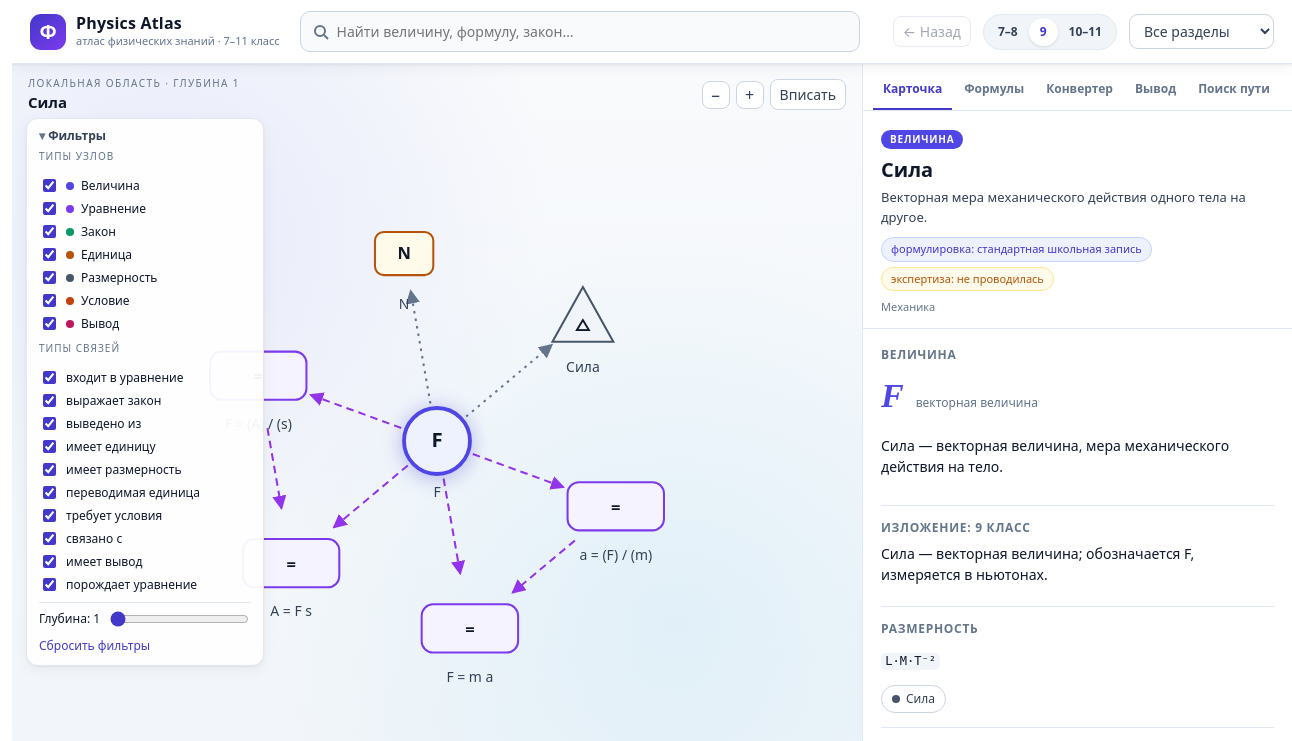
atlas application › returns to the previous object with the back button
The image size is (1292, 741).
Type "масса" into the dropdown named "Поиск по атласу" at (580, 32), box [300,11,860,52]
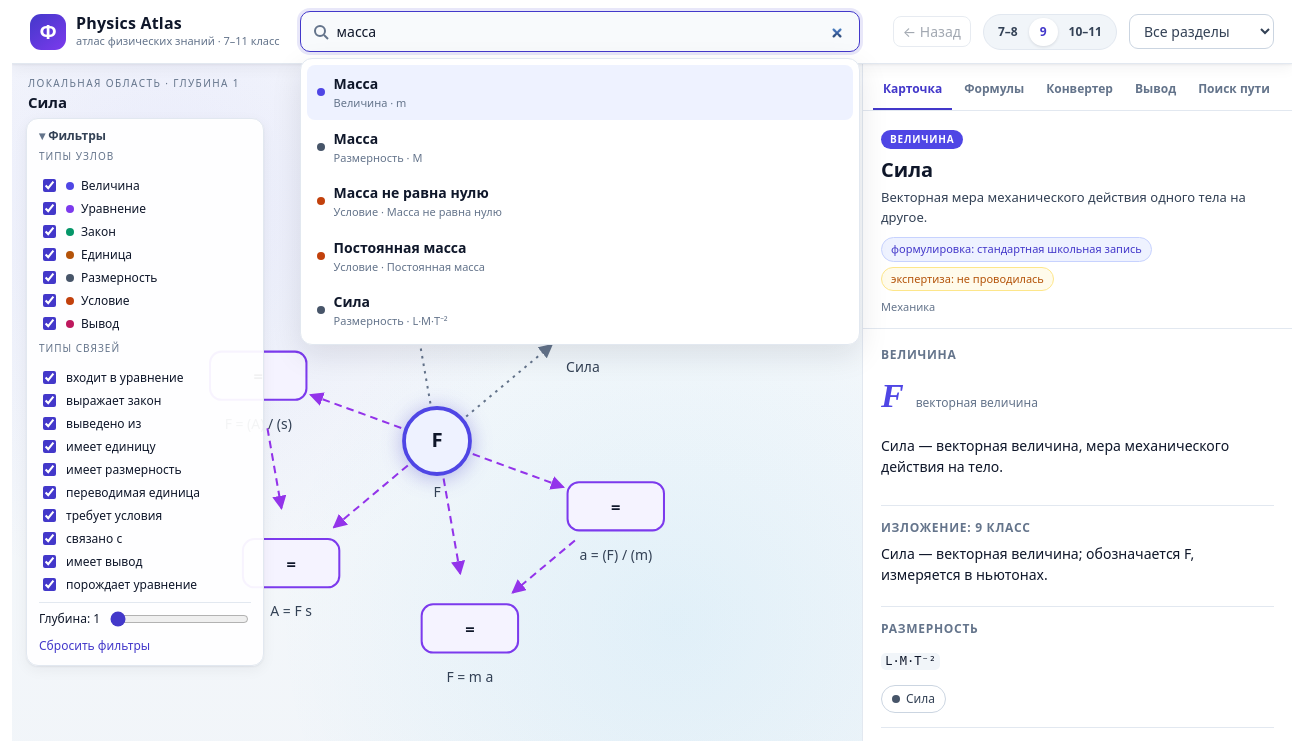
Click the option "Масса Величина · m" at (356, 84), box [307,65,853,120]
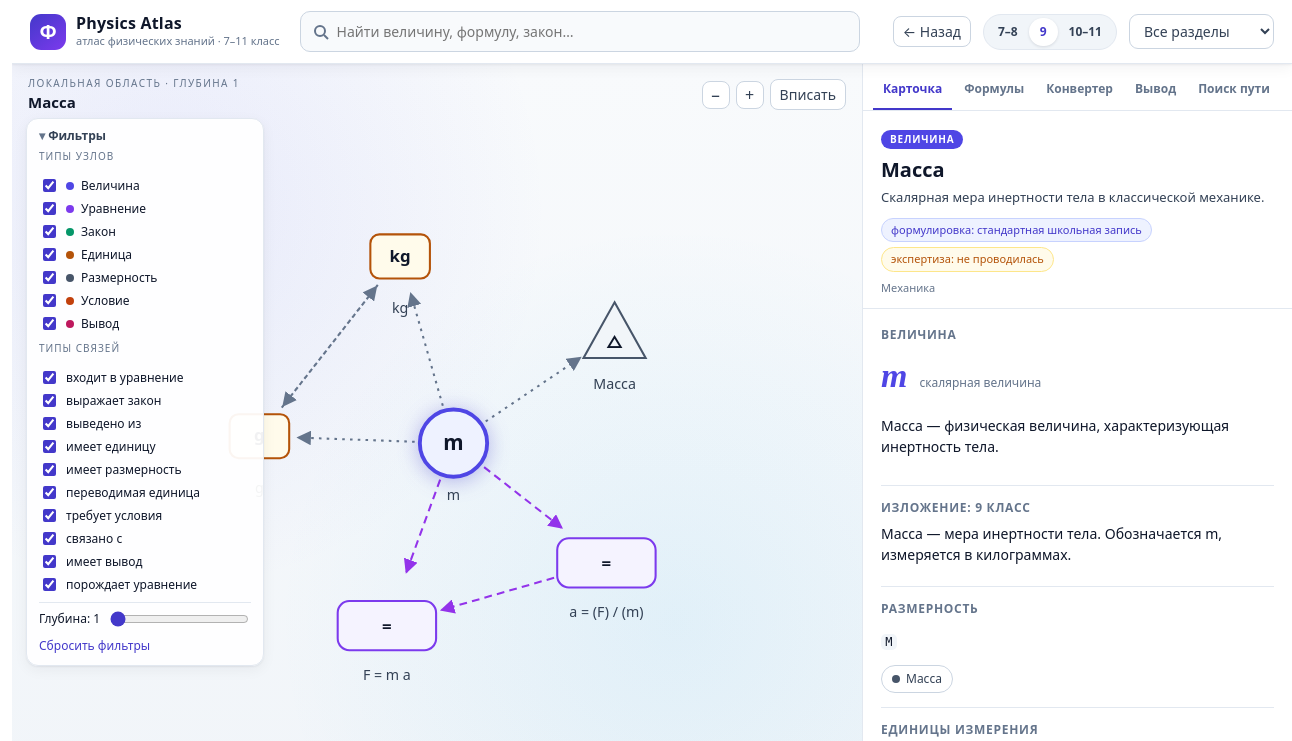
Expected: the heading "Масса" is shown, [881,156,945,183]
Click the button "← Назад" at (932, 32), box [893,16,971,47]
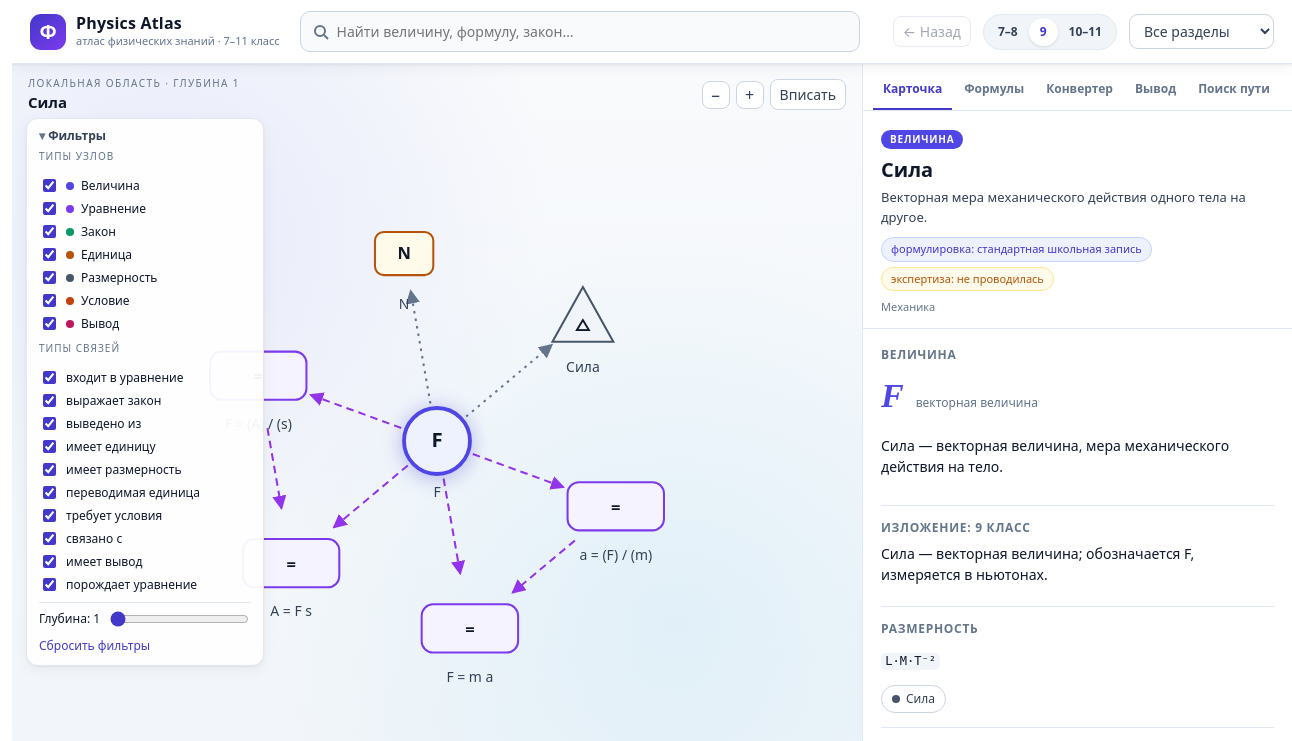
Expected: the heading "Сила" is shown, [881,156,933,183]
